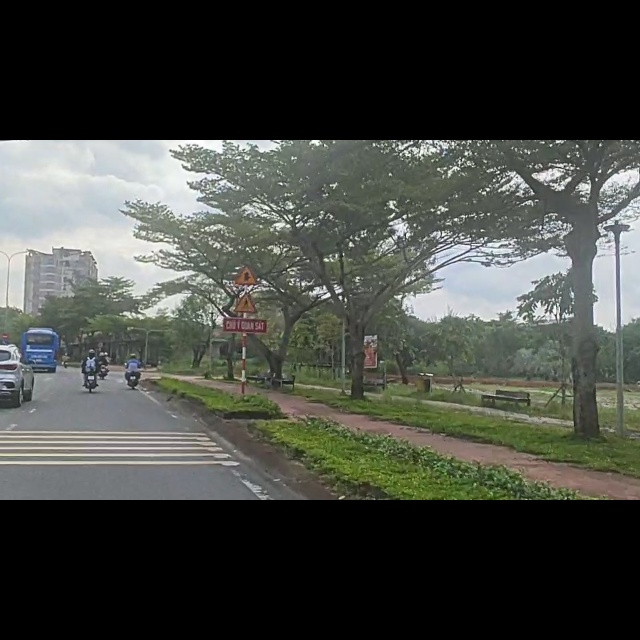bien_nguy_hiem: (231, 269, 261, 309), (233, 218, 259, 257)
